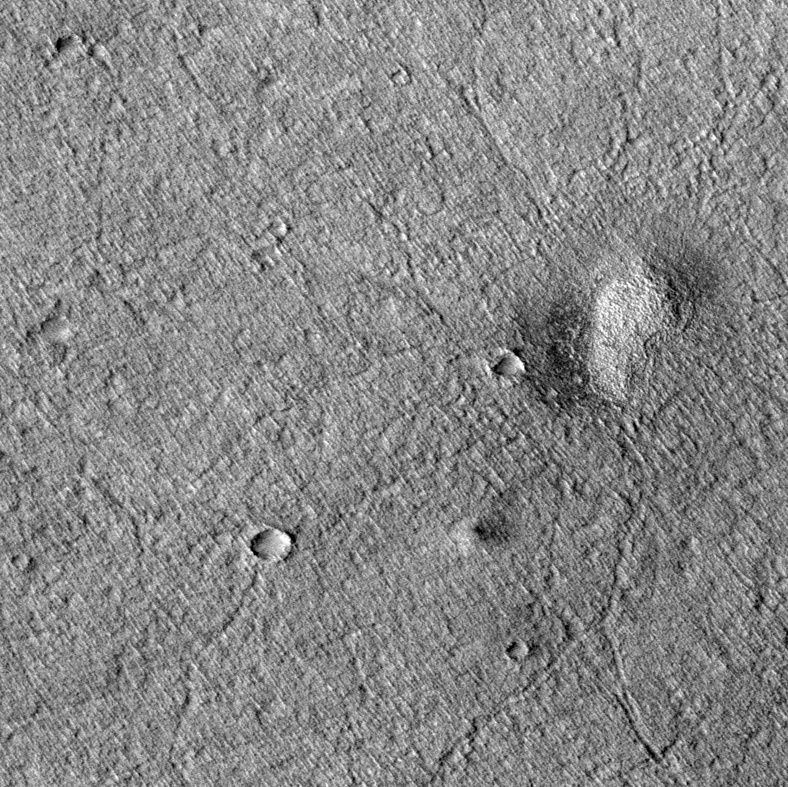dust_devil: (447, 510, 518, 557)
